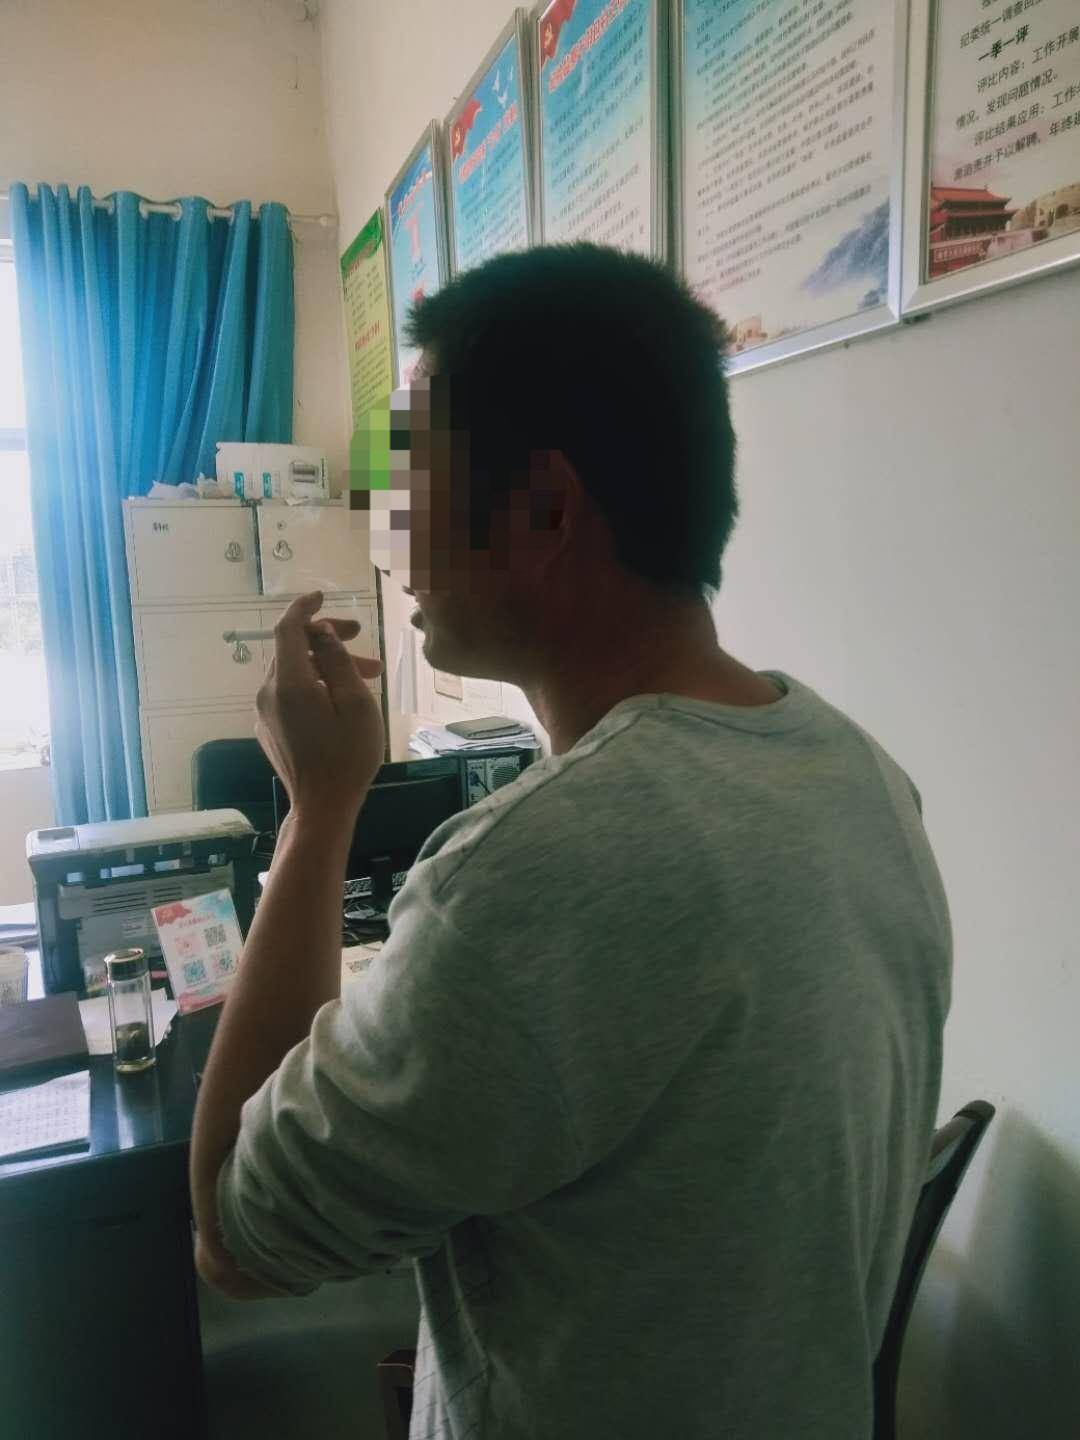smoke: (216, 627, 276, 649)
